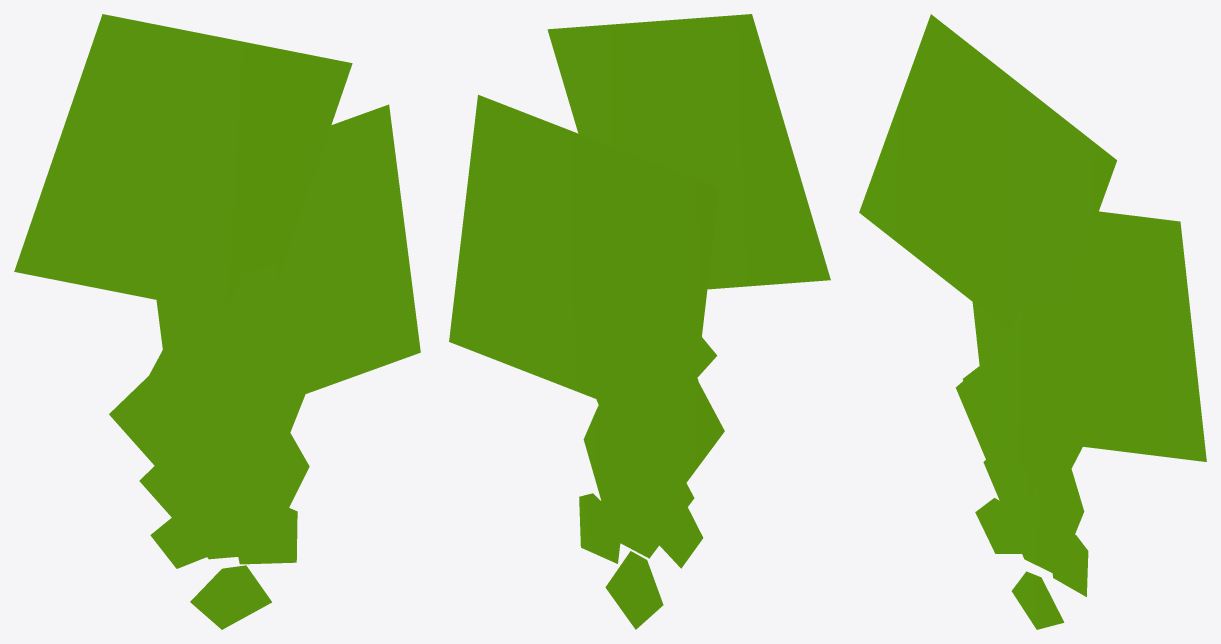
Rendered from prop_Vine4.glb.
3 views of the same model, side by side, from view 1: azimuth 30°, elevation 25°; view 2: azimuth 150°, elevation 25°; view 3: azimuth 330°, elevation 25° (orthographic). The views are drawn at different scales.
Visible parts, largest first — view 1: Prop_Vine4; view 2: Prop_Vine4; view 3: Prop_Vine4.
Boxes of the visible parts, left/top/right/bottom form: Prop_Vine4: left=14, top=14, right=420, bottom=629; Prop_Vine4: left=449, top=14, right=830, bottom=629; Prop_Vine4: left=859, top=14, right=1206, bottom=629.
Bounding box in the file's own units: 1.02 × 1.59 × 0.15.
1 material, 1 textured.
